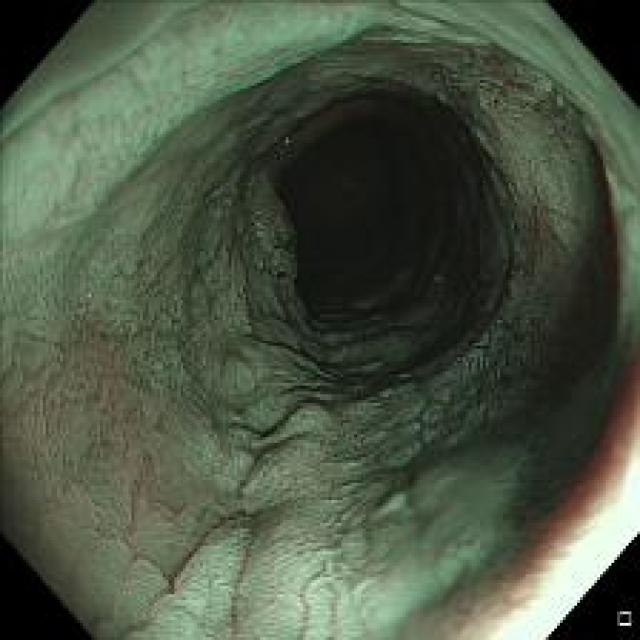contrast: (256, 69, 505, 365), (554, 151, 615, 401)
saturation: (488, 469, 635, 629)
